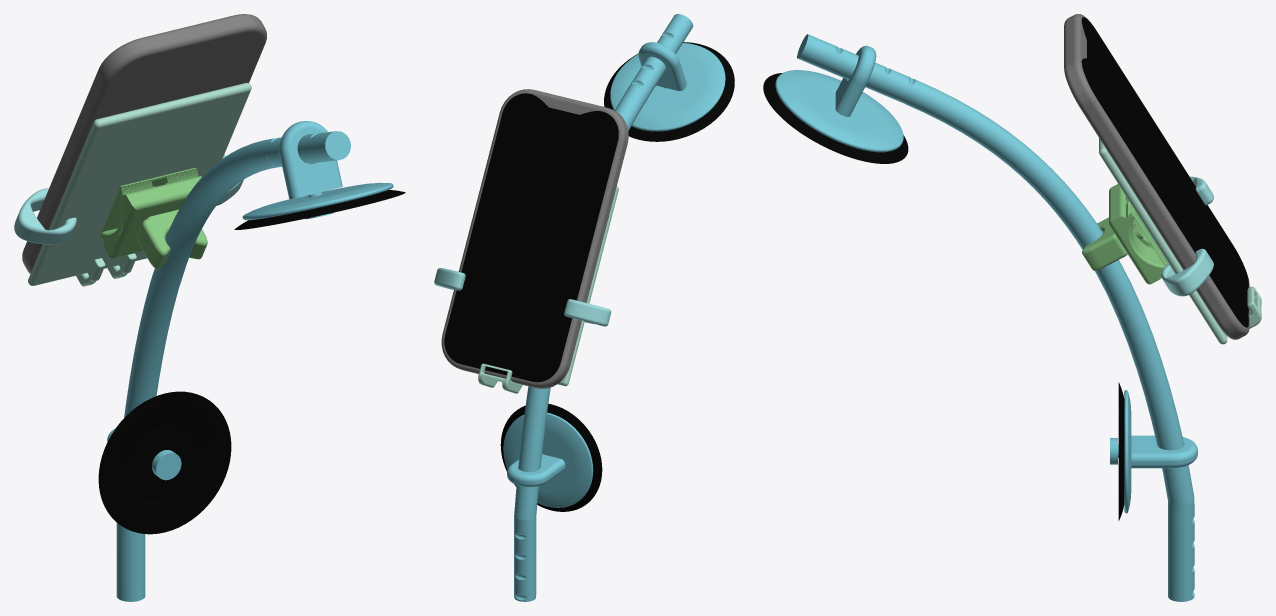
File: Phone Holder 8 Final.glb
3 renders of one model, left to right at view 1: azimuth 30°, elevation 25°; view 2: azimuth 150°, elevation 25°; view 3: azimuth 270°, elevation 25°, orthographic. The views are drawn at different scales.
Visible parts, largest first — view 1: back and bottom, Body1_0, Suction cup Lower (1), Rail (2), Clip upper, Hinge outter, Suction cup upper reciever, Clip for rail, Body8, Hinge inner, Suction cup upper, Clip Lower (1); view 2: Body1_1, Rail (2), Suction cup upper reciever, Body1_0, Suction cup Lower reciever (1), Suction cup upper, Suction cup Lower (1), back and bottom, Clip upper, Clip Lower (1), Body8, Arm Left; view 3: Rail (2), Body1_1, Body1_0, Suction cup upper reciever, back and bottom, Suction cup upper, Clip Lower (1), Hinge inner, Clip upper, Hinge outter, Arm Left, Clip for rail (+2 smaller).
Boxes of the visible parts, left/top/right/bottom form: back and bottom: left=28, top=82, right=251, bottom=286; Body1_0: left=22, top=14, right=266, bottom=273; Suction cup Lower (1): left=98, top=391, right=231, bottom=534; Rail (2): left=116, top=131, right=350, bottom=601; Clip upper: left=279, top=121, right=342, bottom=219; Hinge outter: left=103, top=176, right=201, bottom=258; Suction cup upper reciever: left=242, top=182, right=393, bottom=220; Clip for rail: left=136, top=209, right=207, bottom=269; Body8: left=14, top=188, right=76, bottom=244; Hinge inner: left=100, top=168, right=198, bottom=241; Suction cup upper: left=234, top=190, right=405, bottom=229; Clip Lower (1): left=107, top=428, right=181, bottom=480; Body1_1: left=444, top=93, right=618, bottom=382; Rail (2): left=514, top=14, right=693, bottom=601; Suction cup upper reciever: left=610, top=43, right=725, bottom=131; Body1_0: left=441, top=89, right=628, bottom=388; Suction cup Lower reciever (1): left=503, top=412, right=593, bottom=507; Suction cup upper: left=604, top=42, right=734, bottom=141; Suction cup Lower (1): left=500, top=403, right=602, bottom=511; back and bottom: left=478, top=186, right=618, bottom=393; Clip upper: left=638, top=42, right=686, bottom=90; Clip Lower (1): left=507, top=454, right=565, bottom=487; Body8: left=564, top=299, right=611, bottom=326; Arm Left: left=434, top=268, right=465, bottom=290; Rail (2): left=797, top=34, right=1194, bottom=601; Body1_1: left=1081, top=17, right=1248, bottom=327; Body1_0: left=1064, top=14, right=1249, bottom=339; Suction cup upper reciever: left=775, top=70, right=903, bottom=152; back and bottom: left=1099, top=138, right=1261, bottom=344; Suction cup upper: left=763, top=73, right=908, bottom=163; Clip Lower (1): left=1110, top=435, right=1197, bottom=468; Hinge inner: left=1124, top=197, right=1168, bottom=272; Clip upper: left=835, top=45, right=876, bottom=116; Hinge outter: left=1109, top=184, right=1161, bottom=284; Arm Left: left=1161, top=248, right=1213, bottom=296; Clip for rail: left=1082, top=217, right=1127, bottom=270.
Bounding box in the file's own units: 0.089 × 0.2317 × 0.1867.
